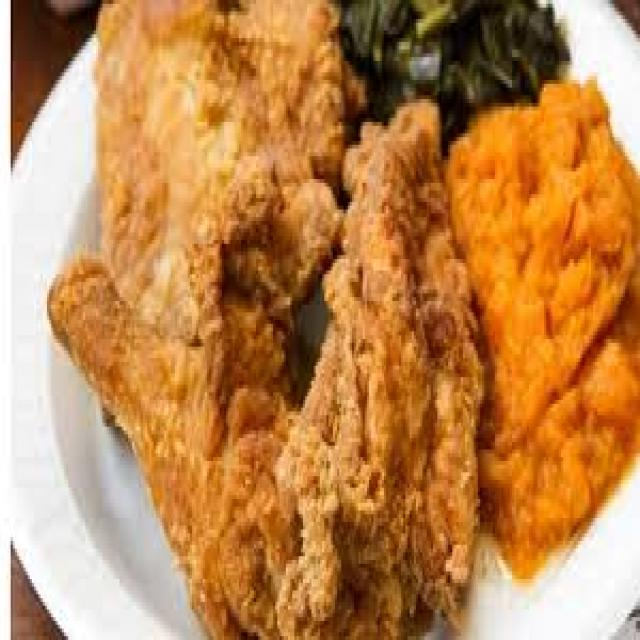Frango: (54, 0, 488, 640)
